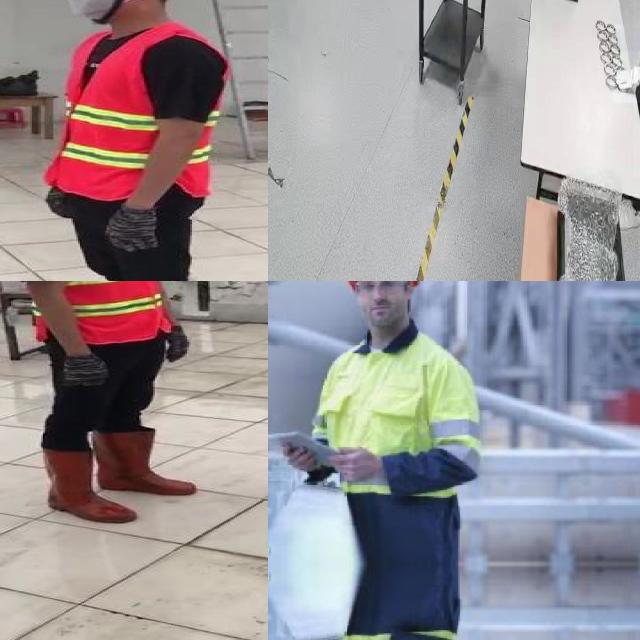No_Ear-Protection: (404, 281, 414, 299)
No_Glasses: (359, 281, 402, 296)
boots: (29, 443, 139, 526), (93, 424, 199, 500)
face_mask: (56, 0, 133, 19)
face_nomask: (359, 294, 405, 325)
hand_glove: (102, 205, 156, 253), (58, 355, 112, 389), (164, 323, 201, 364), (613, 52, 640, 103)
hand_noglove: (330, 448, 385, 483), (284, 446, 317, 472)
person: (39, 0, 236, 281), (0, 281, 211, 525)
vest: (52, 30, 218, 202), (11, 281, 171, 344)
